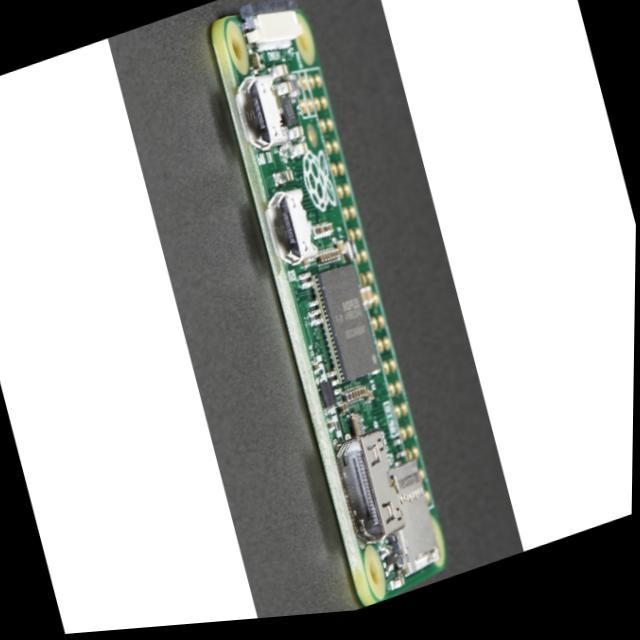Raspberry-Pi-Zero: (211, 1, 446, 606), (279, 191, 309, 232), (269, 200, 275, 223)
